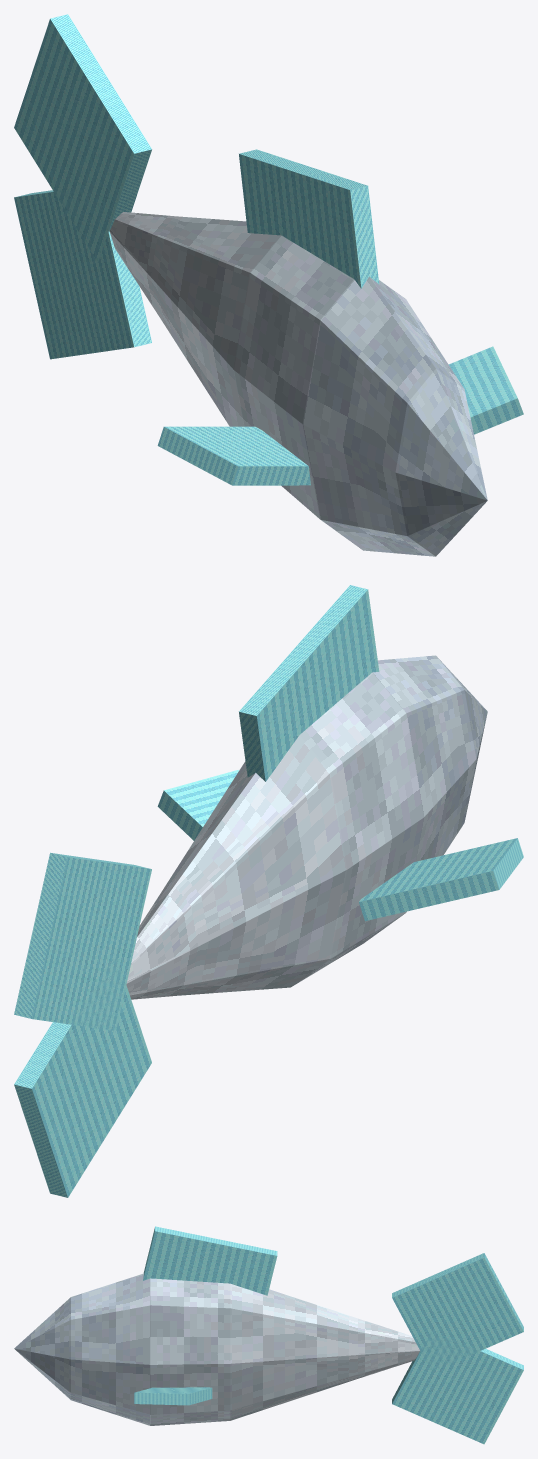
The model's file is lambari.glb.
3 renders of one model, top to bottom at view 1: azimuth 30°, elevation 25°; view 2: azimuth 150°, elevation 25°; view 3: azimuth 270°, elevation 25°, orthographic. The views are drawn at different scales.
Visible parts, largest first — view 1: lambari; view 2: lambari; view 3: lambari.
Boxes of the visible parts, x1,y1,x2,y2 form: lambari: (14,14,523,556); lambari: (14,585,523,1197); lambari: (14,1226,523,1444).
Size of the model in its own units: 0.2586 by 0.2812 by 0.6092.
1 material, 1 textured.
